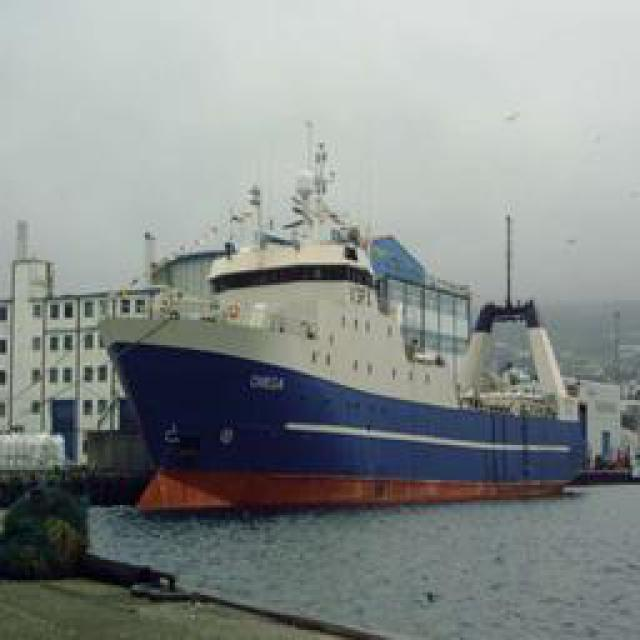Ship: (114, 190, 587, 505)
